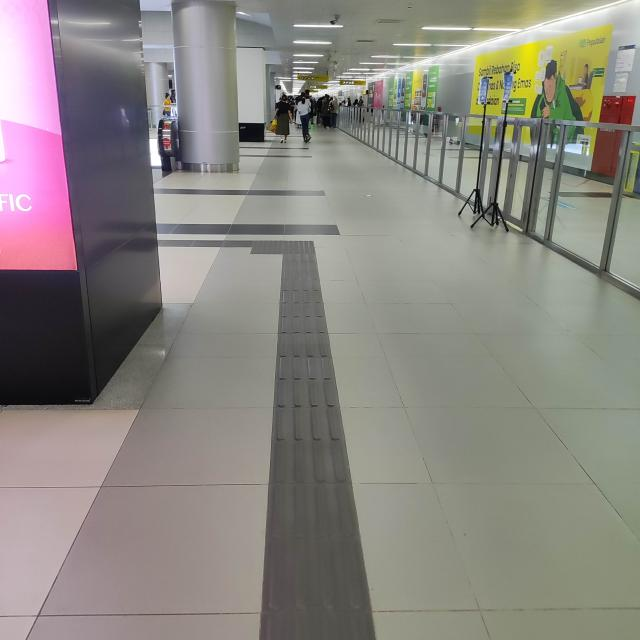kiri: (216, 227, 324, 268)
